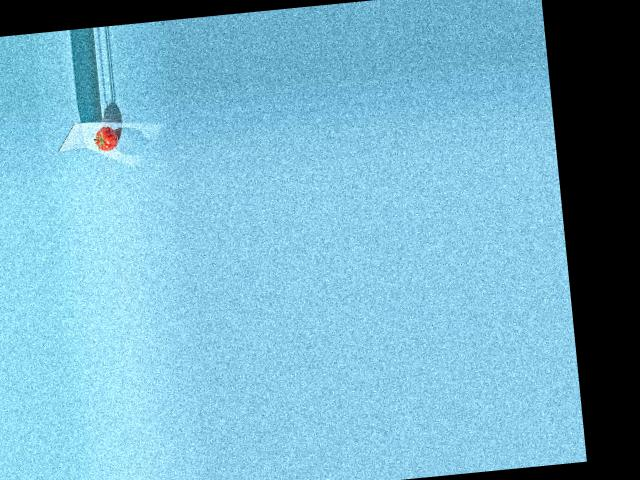tomato: (93, 125, 119, 151)
